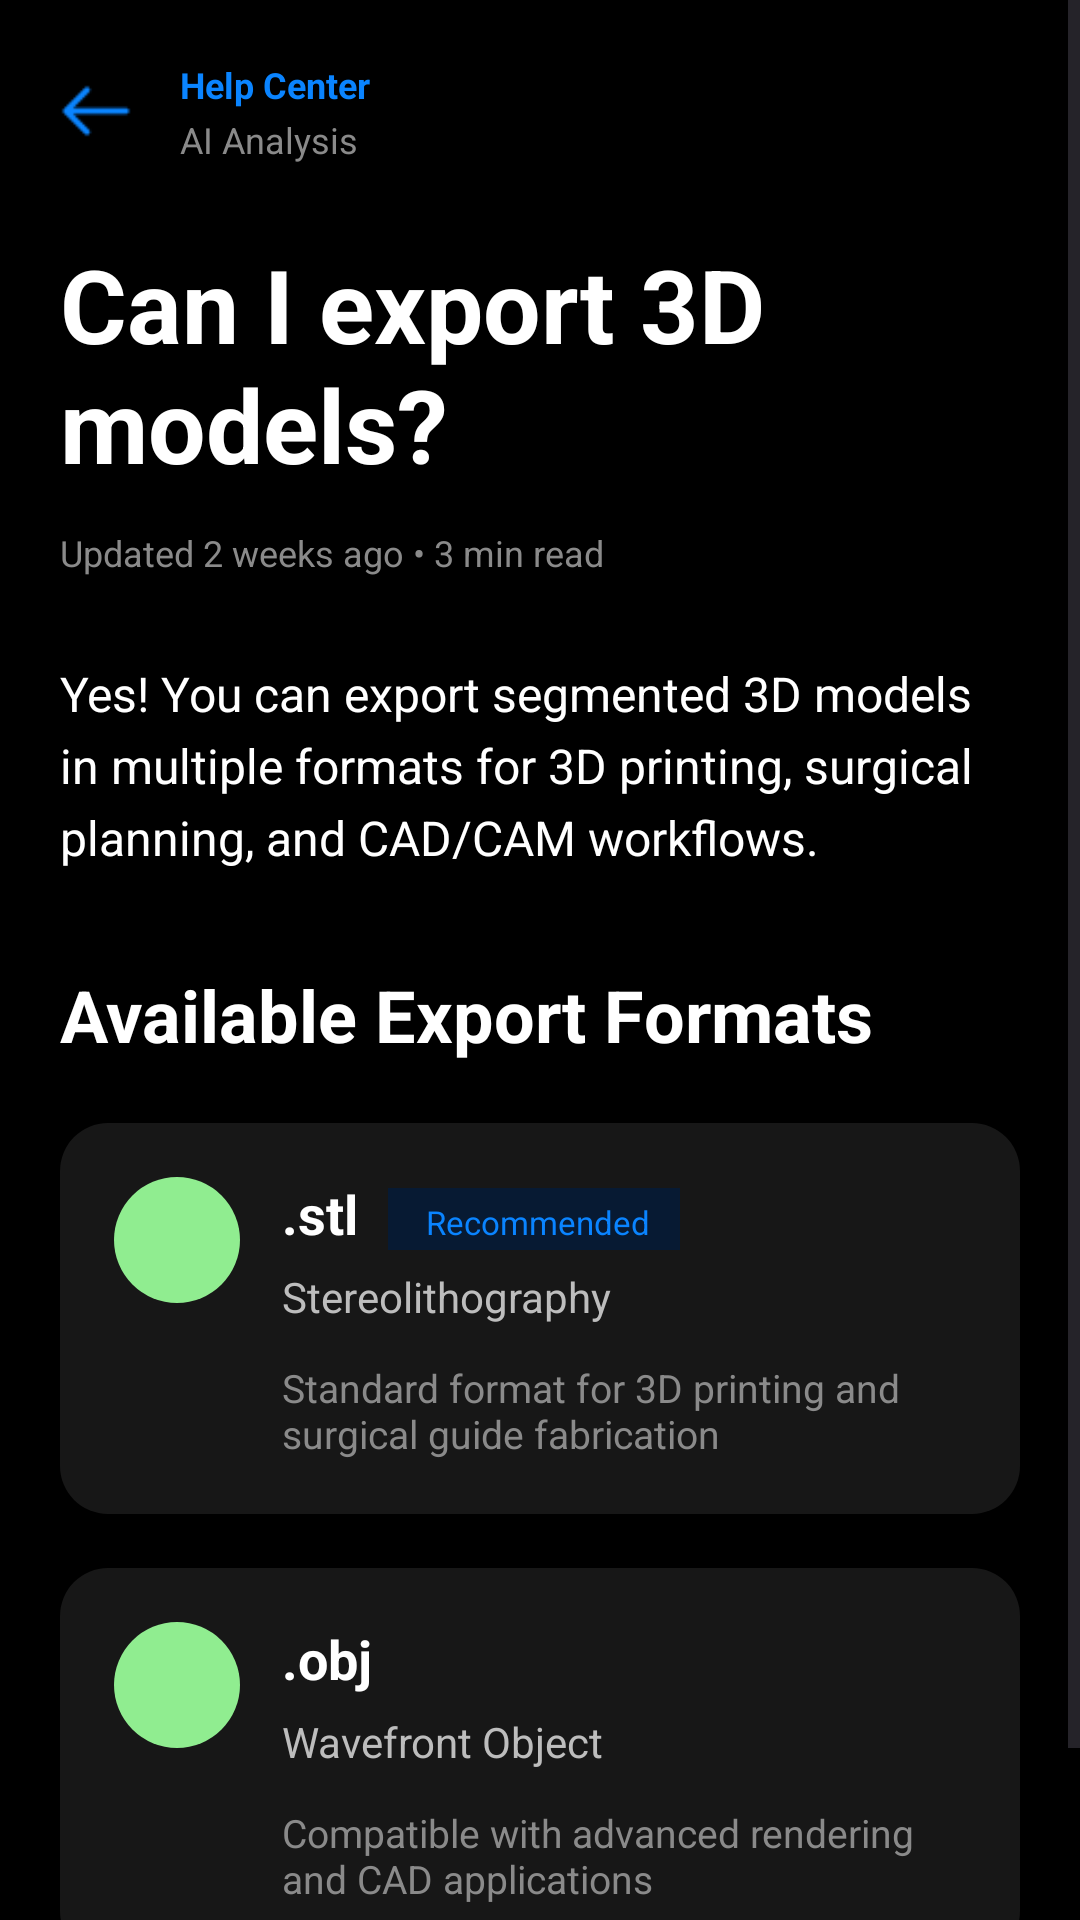

Icons on this 1080 × 1920 Android screen, each with the point to tap as point (x, y):
back: point (96, 111)
